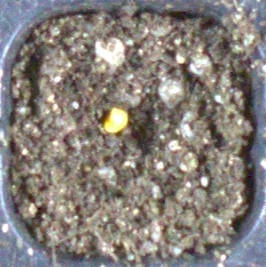pepper seed: (39, 40, 168, 175)
